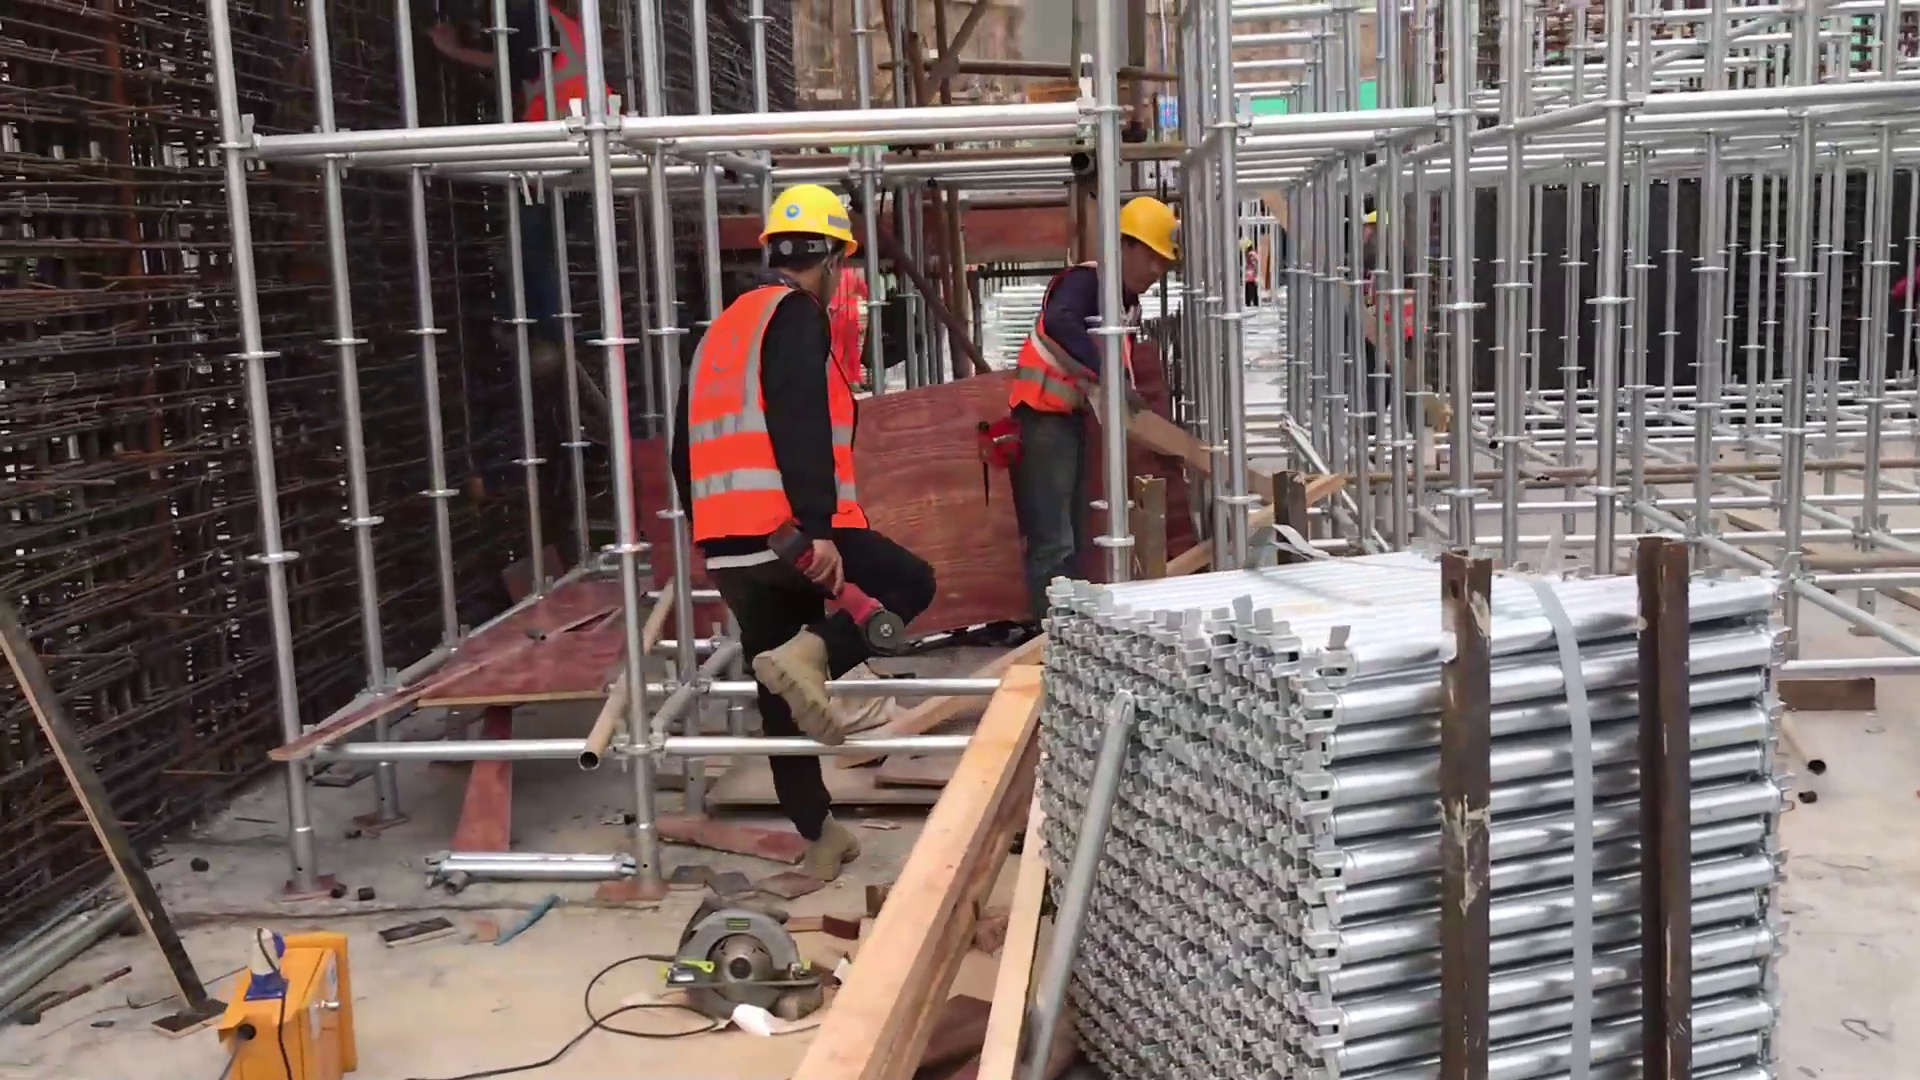cutter: (604, 878, 840, 1038)
ebox: (219, 915, 366, 1080)
helmet: (761, 182, 858, 260), (1120, 196, 1178, 264)
person: (689, 175, 914, 857), (1008, 193, 1204, 597), (454, 1, 626, 120), (1360, 211, 1401, 299), (1241, 239, 1266, 302)
scaffold: (1045, 546, 1787, 1080)
vest: (691, 287, 867, 548), (1011, 320, 1100, 434), (526, 5, 599, 122)
wood: (812, 676, 1055, 1079)
